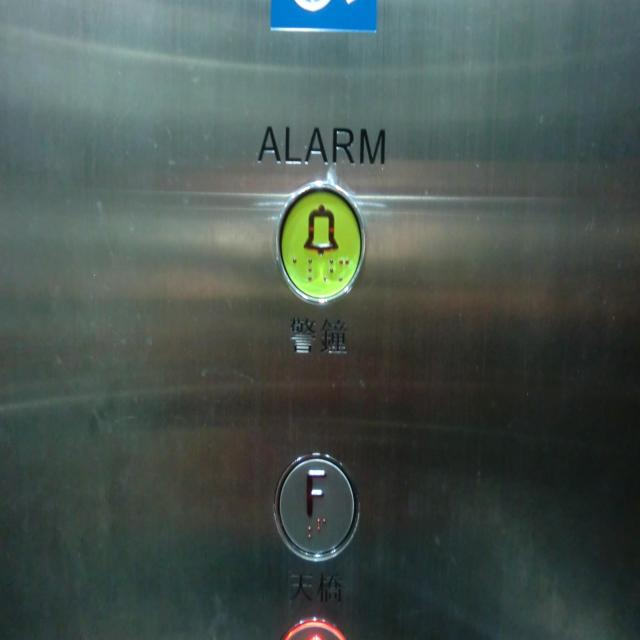F: (273, 450, 360, 561)
alarm: (274, 181, 368, 305)
